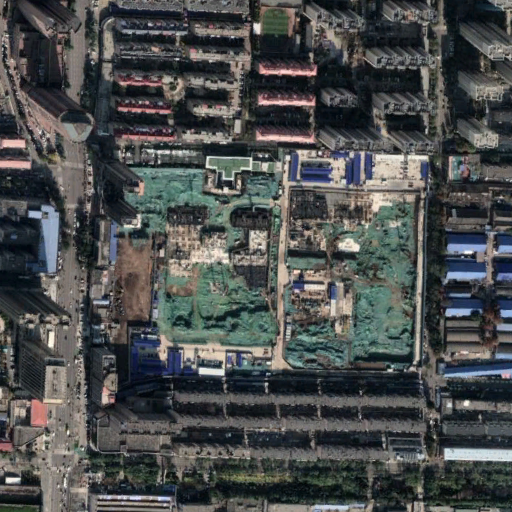cw: (121, 156, 424, 371)
